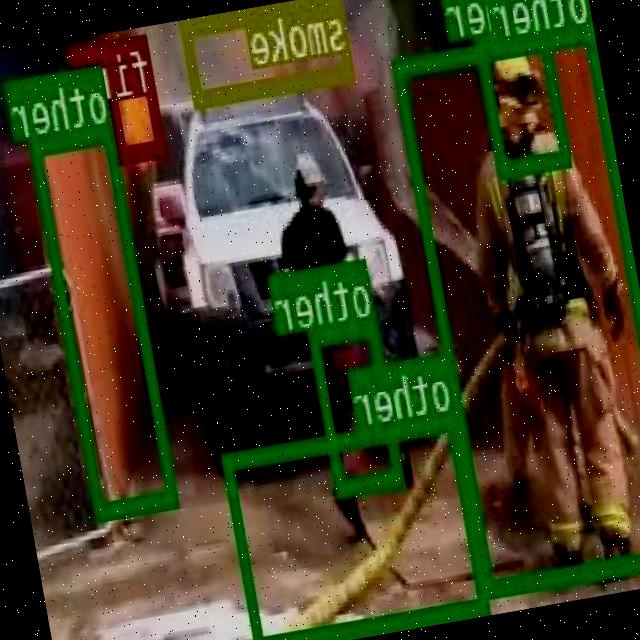fire: (99, 30, 168, 160)
smoke: (182, 0, 357, 101)
